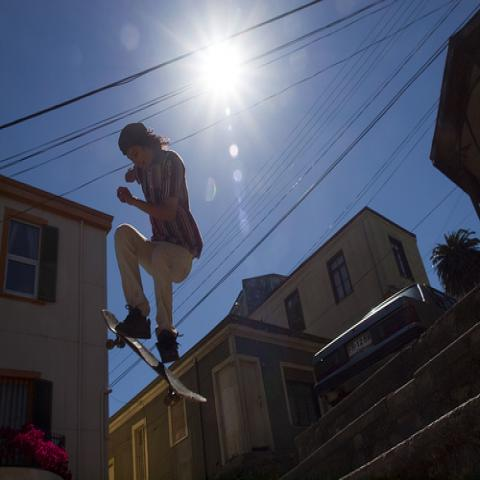car: (312, 282, 461, 404)
